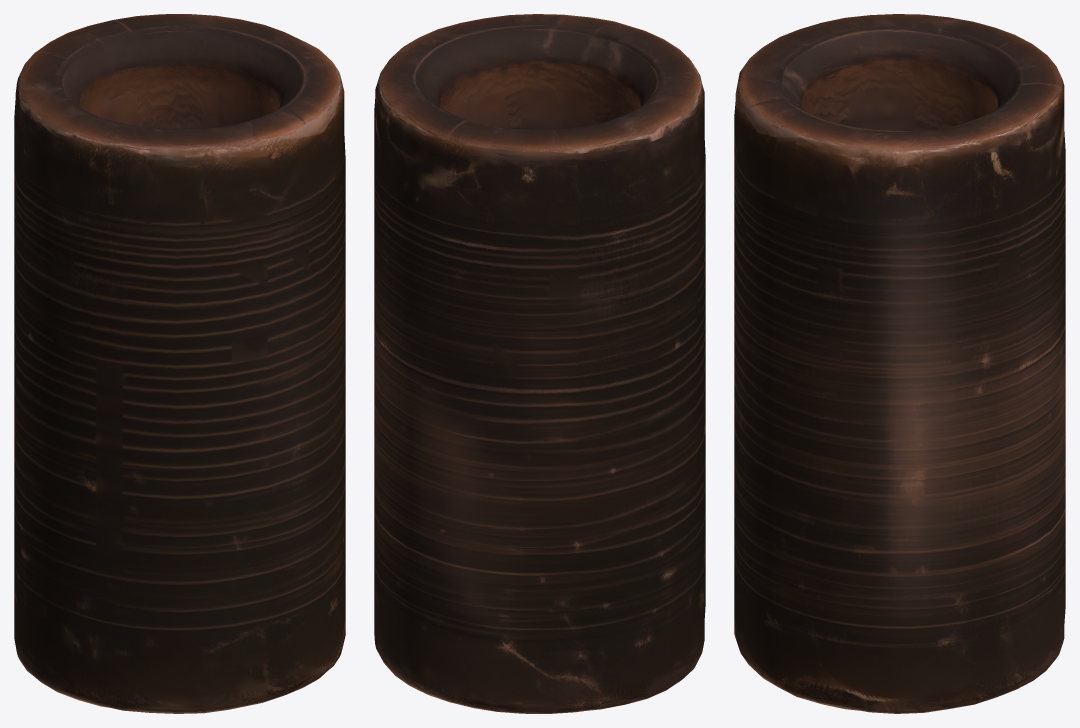
Rendered from wax-cylinder.glb.
The picture shows the model from 3 angles, left to right: view 1: azimuth 30°, elevation 25°; view 2: azimuth 150°, elevation 25°; view 3: azimuth 270°, elevation 25°; orthographic projection.
Size of the model in its own units: 0.998 by 1.91 by 0.998.
1 material, 1 textured.
